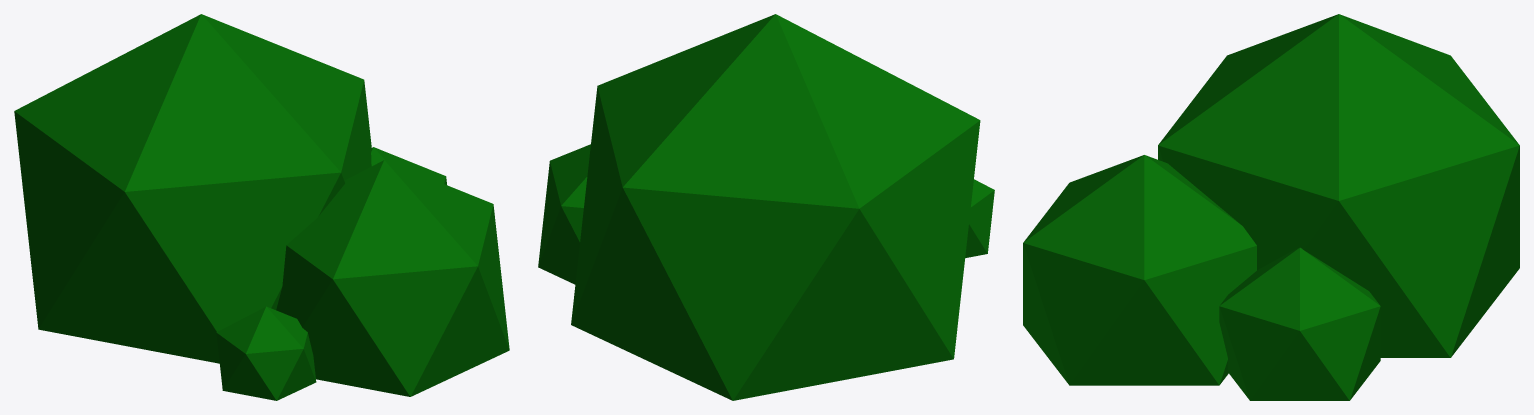
Rendered from Bush.fbx.
3 views of the same model, side by side, from view 1: azimuth 30°, elevation 25°; view 2: azimuth 150°, elevation 25°; view 3: azimuth 270°, elevation 25° (orthographic). The views are drawn at different scales.
Visible parts, largest first — view 1: Icosphere, Icosphere.001, Icosphere.003, Icosphere.002; view 2: Icosphere, Icosphere.002, Icosphere.003; view 3: Icosphere, Icosphere.001, Icosphere.002.
Part boxes in pixels (x1,y1,x2,y2): Icosphere: (14, 14, 371, 363); Icosphere.001: (276, 160, 509, 396); Icosphere.003: (216, 306, 316, 400); Icosphere.002: (371, 147, 446, 184); Icosphere: (571, 14, 980, 400); Icosphere.002: (538, 144, 590, 284); Icosphere.003: (965, 179, 994, 257); Icosphere: (1158, 14, 1519, 357); Icosphere.001: (1023, 155, 1256, 385); Icosphere.002: (1219, 247, 1380, 400).
Size of the model in its own units: 213 by 153 by 233.
